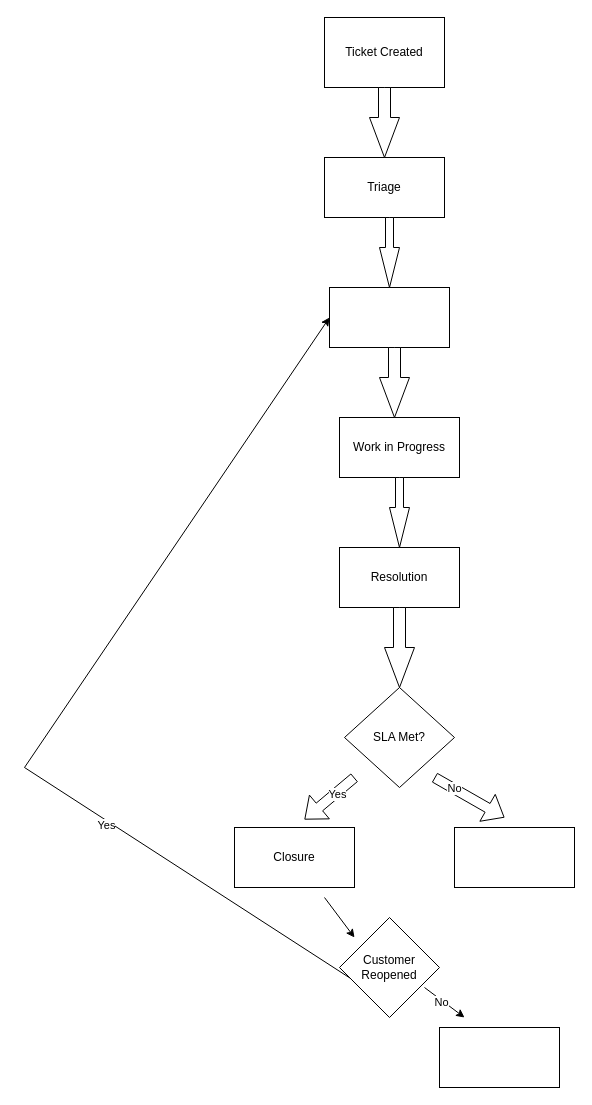
The diagram is 592 pixels wide and 1105 high, and some of its shapes have lost their labels. Each missing label, with the centre of its shape:
Assignment: point 389,317
End: point 499,1057
SLA Breach Handling: point 514,857
